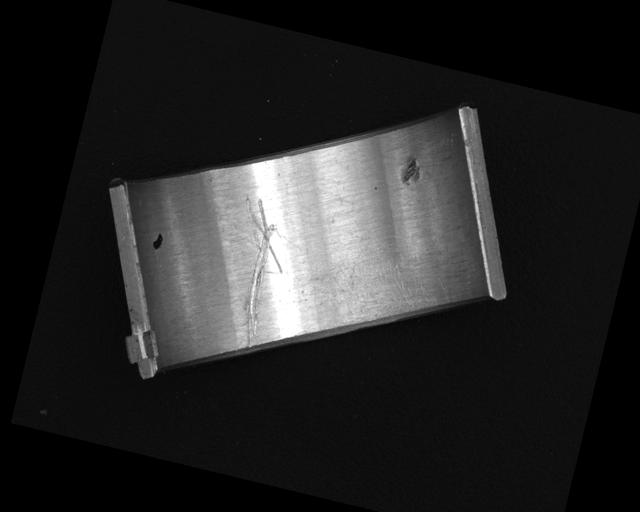blot: (149, 230, 166, 252)
bruise: (398, 153, 425, 188)
nick: (212, 196, 301, 354)
scratch: (321, 242, 457, 346)
